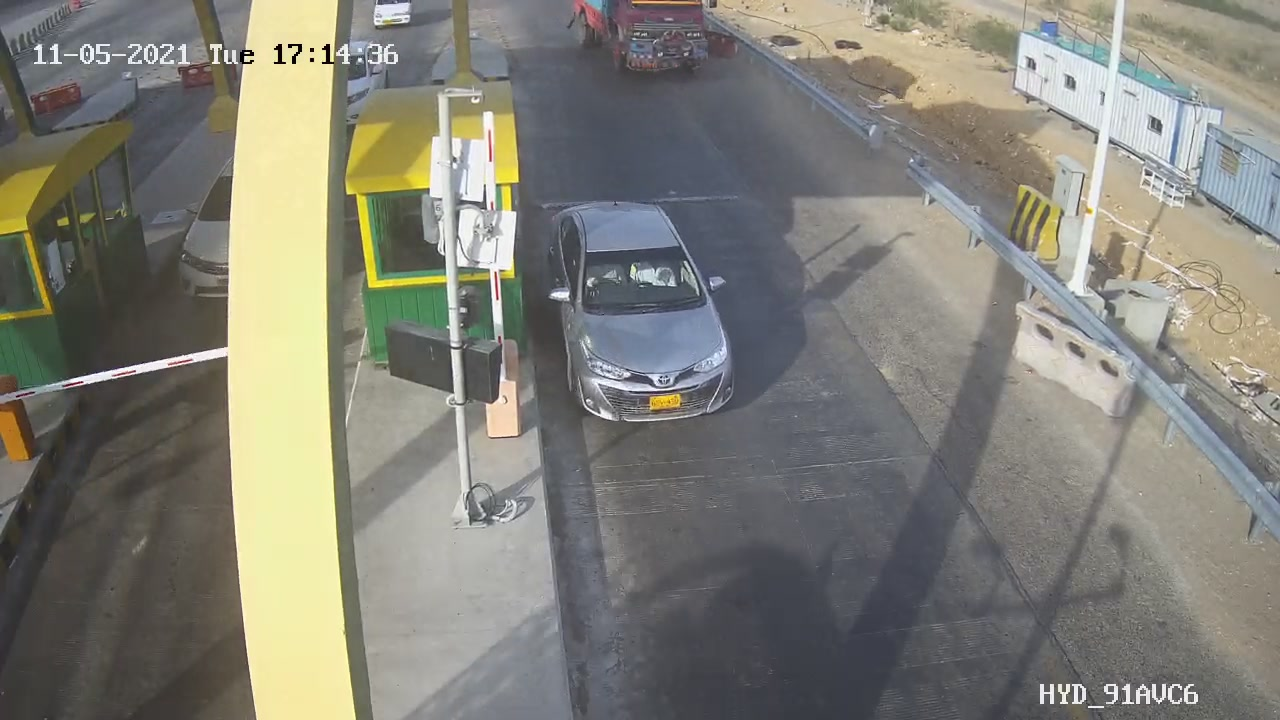F1: (525, 186, 765, 440)
